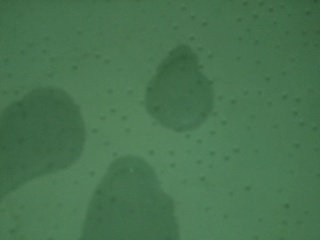Water_detected: (0, 104, 66, 184), (99, 169, 163, 240), (149, 62, 192, 123)
